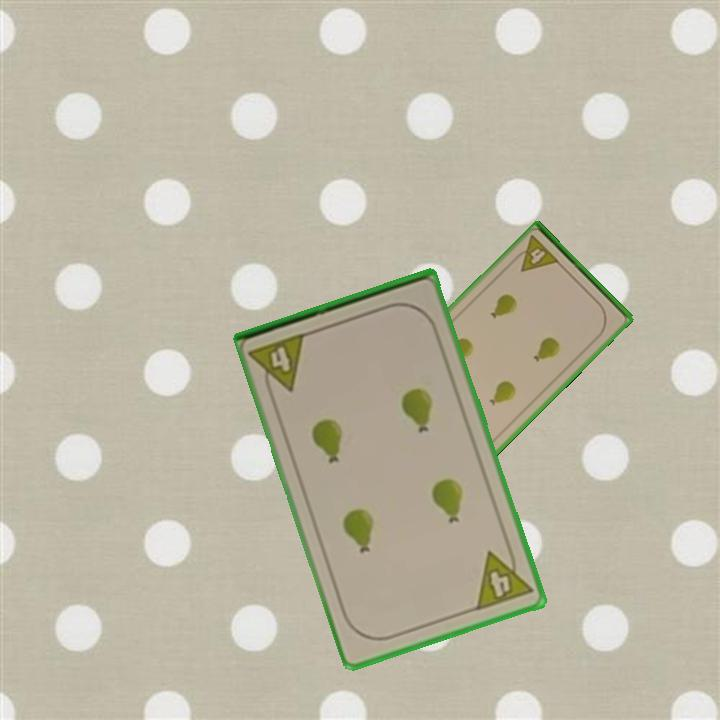4p: (472, 541, 536, 614), (247, 329, 310, 400), (509, 232, 562, 275)
